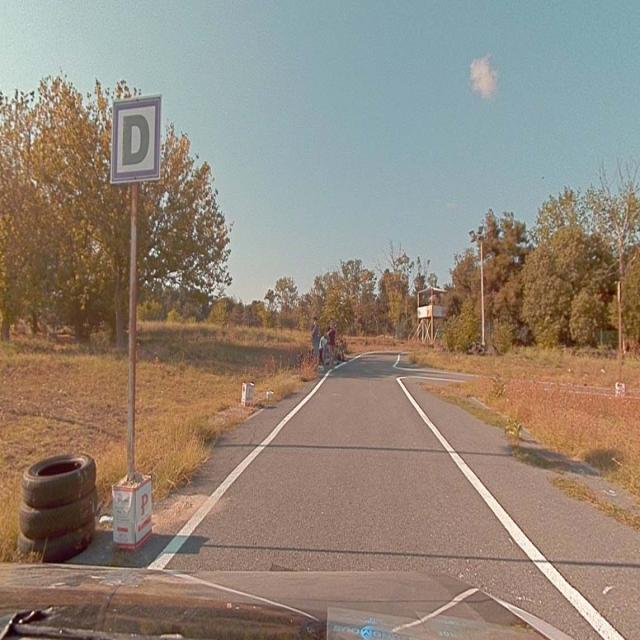durak: (113, 98, 158, 180)
